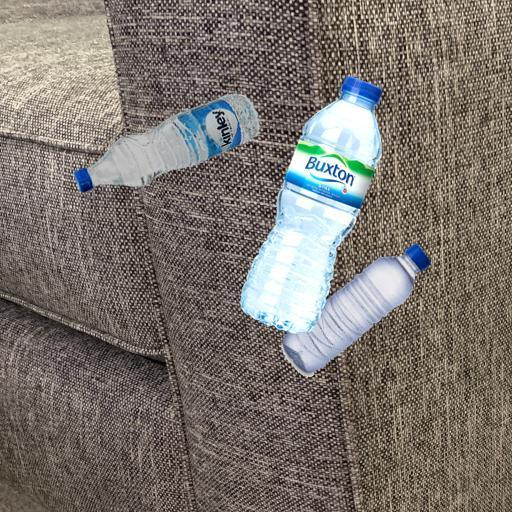bottle: (236, 73, 389, 336), (272, 244, 436, 379), (68, 91, 266, 198)
